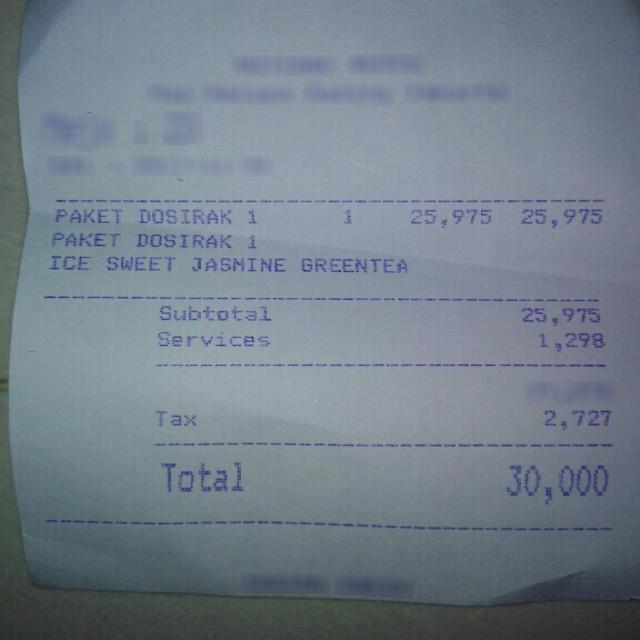kertas: (11, 0, 638, 606)
